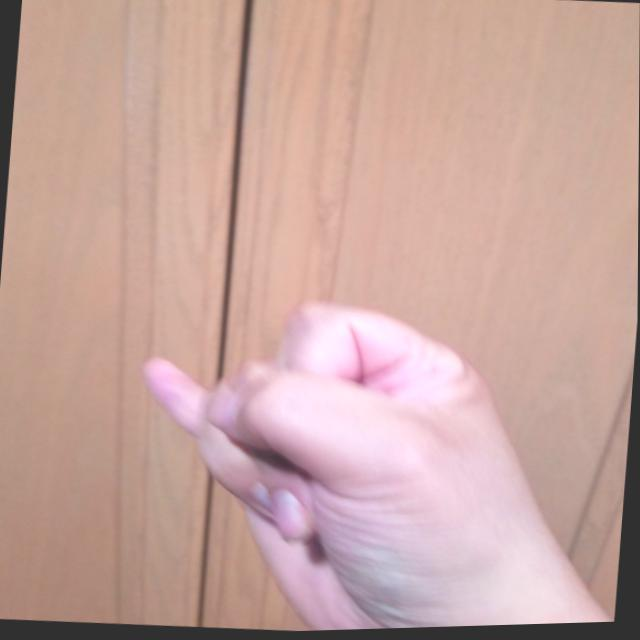J: (102, 262, 591, 637)
